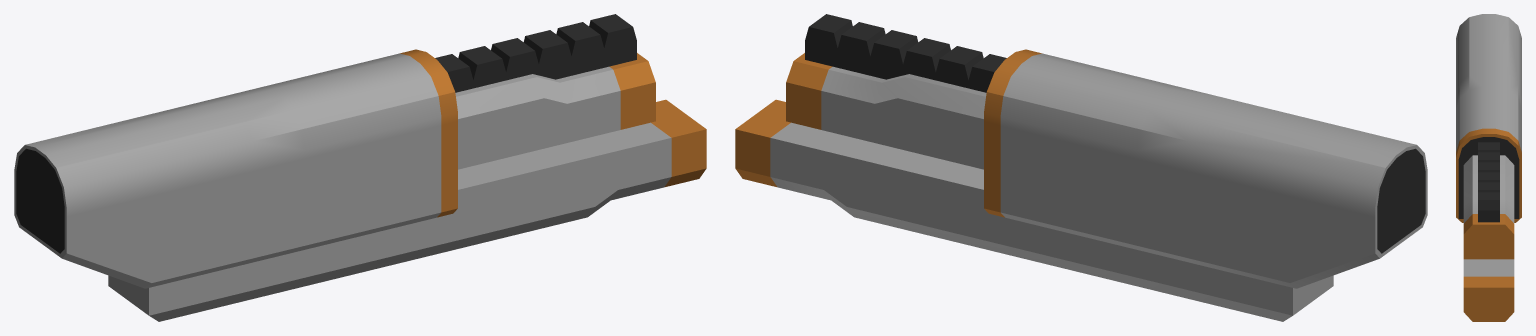
The model's file is Body_Grenade_2.glb.
3 renders of one model, left to right at view 1: azimuth 30°, elevation 25°; view 2: azimuth 150°, elevation 25°; view 3: azimuth 270°, elevation 25°, orthographic. The views are drawn at different scales.
Visible parts, largest first — view 1: Body_Grenade_2; view 2: Body_Grenade_2; view 3: Body_Grenade_2.
Part boxes in pixels (x1,y1,x2,y2): Body_Grenade_2: [14, 14, 706, 321]; Body_Grenade_2: [735, 14, 1427, 321]; Body_Grenade_2: [1456, 14, 1521, 321].
Size of the model in its own units: 1.33 by 0.369 by 0.1876.
